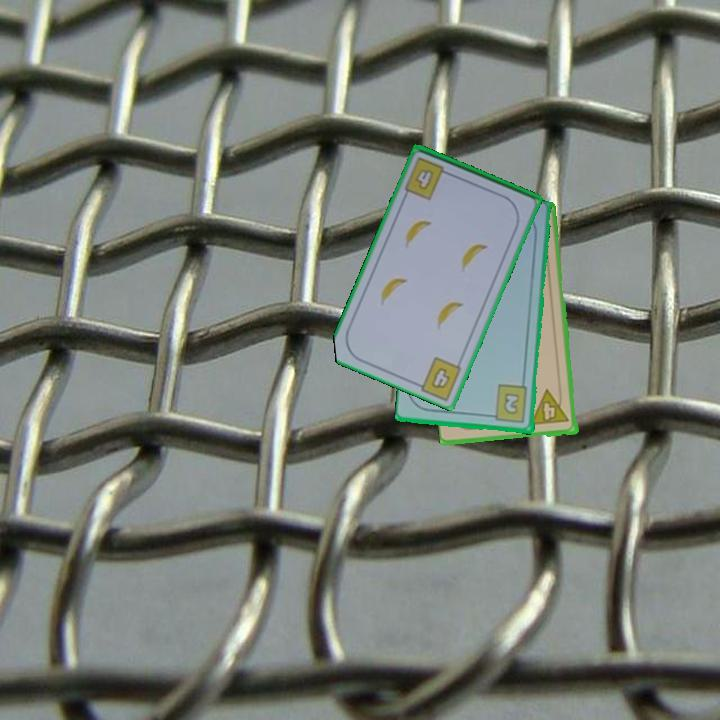2b: (486, 382, 530, 426)
4b: (401, 154, 455, 202), (428, 364, 453, 392)
4p: (528, 386, 572, 428)
